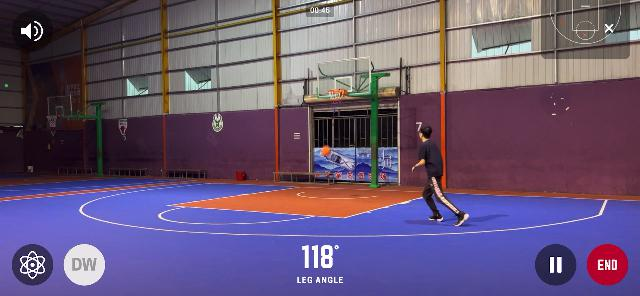ball: (320, 144, 330, 156)
basket: (328, 88, 347, 106)
